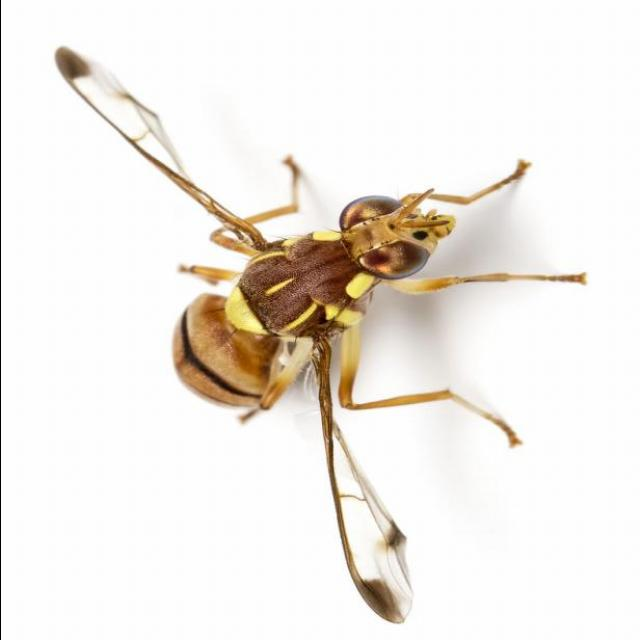Fruit fly: (50, 42, 589, 640)
